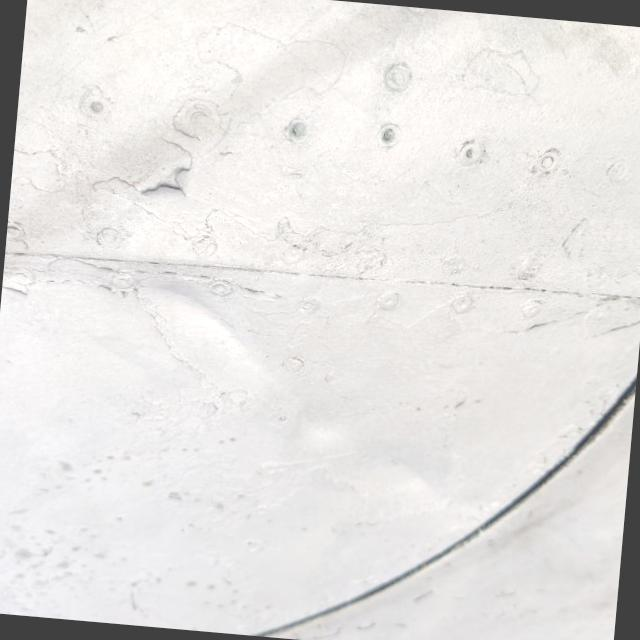dent: (128, 284, 296, 397), (338, 423, 455, 532)
